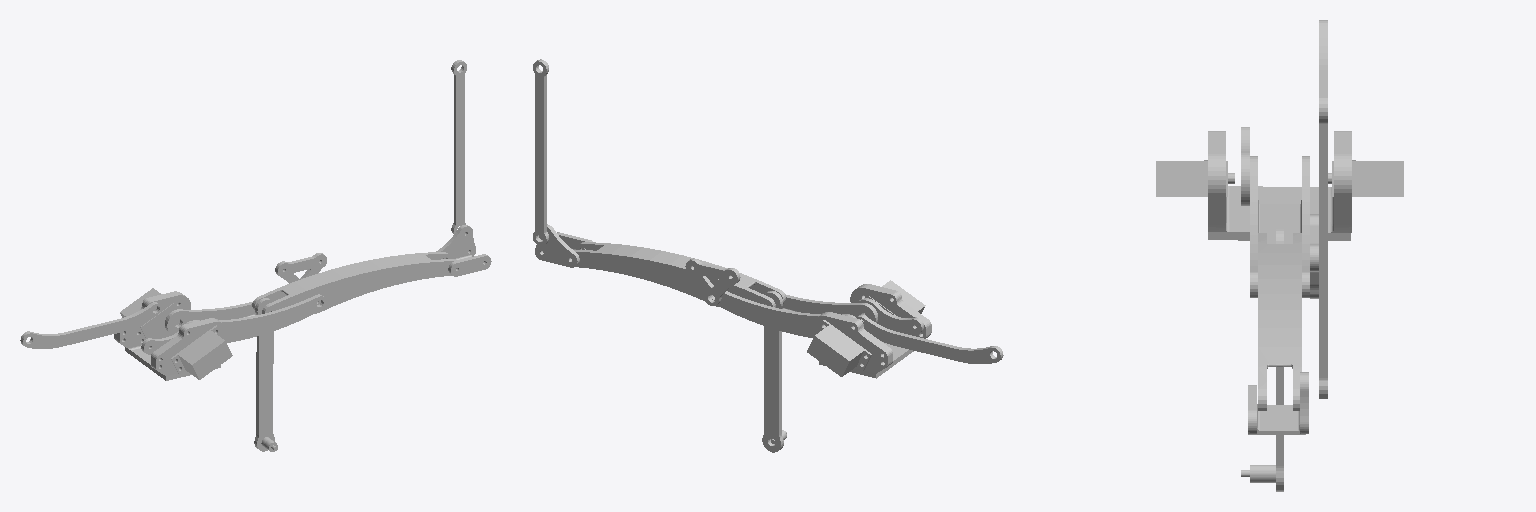
The robot description file, URDF, robot "robotdragon":
<?xml version="1.0"?>
<robot name="robotdragon">
	 <link name="base_orig">
	 	<visual>
			<origin xyz="0 0 0" rpy="0 0 0"/>
		</visual>
	 </link>
	 <link name="base">
	 	<visual>
			<origin xyz="0 0 0" rpy="0 0 0"/>
		</visual>
	 </link>	 	 	
	 <link name="base_rot">
	 	<visual>
			<geometry>
				<mesh filename="package://robopkg/meshes/base.dae"/>
			</geometry>
			<origin xyz="0 0 0" rpy="0 0 0"/>
			<material name="white">
				<color rgba="0.8 0.8 0.8 0.8"/>
			</material>
		</visual>
	</link>
	<link name="add_1">
	 	<visual>
			<geometry>
				<mesh filename="package://robopkg/meshes/add_1.dae"/>
			</geometry>
			<origin xyz="0 6 0" rpy="0 0 0"/>
			<material name="white">
				<color rgba="0.8 0.8 0.8 0.8"/>
			</material>
		</visual>
	</link>
	<link name="add_5">
	 	<visual>
			<geometry>
				<mesh filename="package://robopkg/meshes/add_5.dae"/>
			</geometry>
			<origin xyz="1.16118 3.05 -14.5062" rpy="0 0 0"/>
			<material name="white">
				<color rgba="0.8 0.8 0.8 0.8"/>
			</material>
		</visual>
	</link>

	<link name="link_1">
	 	<visual>
			<geometry>
				<mesh filename="package://robopkg/meshes/link_1.dae"/>
			</geometry>
			<origin xyz="0 3 0" rpy="0 0 0"/>
			<material name="white">
				<color rgba="0.8 0.8 0.8 0.8"/>
			</material>
		</visual>
	</link>

	<link name="link_2">
	 	<visual>
			<geometry>
				<mesh filename="package://robopkg/meshes/link_2(new).dae"/>
			</geometry>
			<origin xyz="-7.00385 3.0 -12.1221" rpy="0 0 0"/>
			<material name="white">
				<color rgba="0.8 0.8 0.8 0.8"/>
			</material>
		</visual>
	</link>

	<link name="add_3">
	 	<visual>
			<geometry>
				<mesh filename="package://robopkg/meshes/add_3.dae"/>
			</geometry>
			<origin xyz="1.89664 0.300 -1.49095" rpy="0 0 0"/>
			<material name="white">
				<color rgba="0.8 0.8 0.8 0.8"/>
			</material>
		</visual>
	</link>

	<link name="add_4">
	 	<visual>
			<geometry>
				<mesh filename="package://robopkg/meshes/add_4.dae"/>
			</geometry>
			<origin xyz="-6.97 1.05 -12.12419" rpy="0 0 0"/>
			<material name="white">
				<color rgba="0.8 0.8 0.8 0.8"/>
			</material>
		</visual>
	</link>

	<link name="link_3">
	 	<visual>
			<geometry>
				<mesh filename="package://robopkg/meshes/link_3.dae"/>
			</geometry>
			<origin xyz="-19.9159 2.93750 -4.10216" rpy="0 0 0"/>
			<material name="white">
				<color rgba="0.8 0.8 0.8 0.8"/>
			</material>
		</visual>
	</link>

	<link name="add_2">
	 	<visual>
			<geometry>
				<mesh filename="package://robopkg/meshes/add_2.dae"/>
			</geometry>
			<origin xyz="-22.53965 0.5500 -6.11641" rpy="0 0 0"/>
			<material name="white">
				<color rgba="0.8 0.8 0.8 0.8"/>
			</material>
		</visual>
	</link>

	<joint type="revolute" name="base_rot_to_add_3" >
    		<axis xyz="0 1 0"/>
    		<limit effort="1000.0" lower="-3" upper="3" velocity="0.5"/>
    		<origin rpy="0 0 0" xyz="-1.89664 -0.300 1.49095"/>
    		<parent link="base_rot"/>
    		<child link="add_3"/>
 	</joint>

	<joint type="revolute" name="base_rot_to_link_1" >
    		<axis xyz="0 1 0"/>
    		<limit effort="1000.0" lower="-3" upper="3" velocity="0.5"/>
    		<origin rpy="0 0 0" xyz="0 -3 0"/>
    		<parent link="base_rot"/>
    		<child link="link_1"/>
 	</joint>

	<joint type="revolute" name="link_1_to_add_1" >
    		<axis xyz="0 1 0"/>
    		<limit effort="1000.0" lower="-3" upper="3" velocity="0.5"/>
    		<origin rpy="0 0 0" xyz="0 -3 0"/>
    		<parent link="link_1"/>
    		<child link="add_1"/>
 	</joint>

	<joint type="revolute" name="link_1_to_link_2" >
    		<axis xyz="0 1 0"/>
    		<limit effort="1000.0" lower="-3" upper="3" velocity="0.5"/>
    		<origin rpy="0 0 0" xyz="14 0 0"/>
    		<parent link="link_1"/>
    		<child link="link_2"/>
 	</joint>

	<joint type="revolute" name="link_2_to_add_5" >
    		<axis xyz="0 1 0"/>
    		<limit effort="1000.0" lower="-3" upper="3" velocity="0.5"/>
    		<origin rpy="0 0 0" xyz="-5.099932 0 -0.0276"/>
    		<parent link="link_2"/>
    		<child link="add_5"/>
 	</joint>

	<joint type="revolute" name="link_2_to_add_4" >
    		<axis xyz="0 1 0"/>
    		<limit effort="1000.0" lower="-3" upper="3" velocity="0.5"/>
    		<origin xyz="0 1.95 0" rpy="0 0 0" />
    		<parent link="link_2"/>
    		<child link="add_4"/>
 	</joint>


	<joint type="revolute" name="link_2_to_link_3" >
    		<axis xyz="0 1 0" />
    		<limit effort="1000.0" lower="-3" upper="3" velocity="0.5"/>
    		<origin xyz="15.199798 0.0 0.0821 " rpy="0 0 0"/>
    		<parent link="link_2"/>
    		<child link="link_3"/>
 	</joint>

	<joint type="revolute" name="link_3_to_add_2" >
    		<axis xyz="0 1 0" />
    		<limit effort="1000.0" lower="-3" upper="3" velocity="0.5"/>
    		<origin xyz="2.62379 2.45 2.01425" rpy="0 0 0"/>
    		<parent link="link_3"/>
    		<child link="add_2"/>
 	</joint>
	<joint type="fixed" name="base_orig_to_base_rot">
		<origin xyz="1.31324 3.01791 3.00279"/>
		<parent link="base"/>
    		<child link="base_rot"/>
	</joint>
	<joint type="revolute" name="base_to_base_orig">
		<origin xyz="0 0 0"/>
		<parent link="base_orig"/>
    		<child link="base"/>
		<limit effort="1000.0" lower="-3" upper="3" velocity="0.5"/>
		<axis xyz="0 0 1"/>
	</joint>
</robot>
	

--- What the picture shows (computed from the rendered views, not written in the file) ---
3 views of the same robot in one strip: view 1: azimuth 30°, elevation 25°; view 2: azimuth 150°, elevation 25°; view 3: azimuth 270°, elevation 25° (orthographic).
Robot: robotdragon — 11 links, 10 joints (9 revolute, 1 fixed); root link base_orig; default pose: all joints at 0.
Links seen in each view (by area): view 1: base_rot, link_2, link_1, add_5, add_3, add_2, link_3, add_4; view 2: base_rot, link_2, link_1, add_5, add_2, add_3, add_4, link_3, add_1; view 3: base_rot, link_2, link_1, add_2, link_3, add_5, add_4, add_1, add_3.
Link boxes in pixels (x1,y1,x2,y2): base_rot: (114,288,232,380); link_2: (252,252,456,313); link_1: (165,294,326,342); add_5: (254,298,277,451); add_3: (20,302,161,348); add_2: (451,60,466,233); link_3: (436,225,491,276); add_4: (275,253,326,283); base_rot: (807,280,931,378); link_2: (574,242,785,307); link_1: (711,291,877,337); add_5: (762,291,786,452); add_2: (533,59,548,245); add_3: (856,315,1003,363); add_4: (685,258,740,305); link_3: (535,224,592,267); add_1: (856,298,923,334); base_rot: (1156,131,1403,240); link_2: (1258,233,1301,410); link_1: (1250,156,1309,297); add_2: (1319,96,1327,398); link_3: (1248,372,1308,434); add_5: (1241,229,1283,491); add_4: (1310,214,1318,298); add_1: (1241,127,1249,205); add_3: (1319,20,1327,95).
Bounding box of the posed robot: 49.59 × 13.86 × 34.86 m (x, y, z).
Meshes: 9 distinct files referenced, 9 mesh visuals loaded (9 Collada DAE).